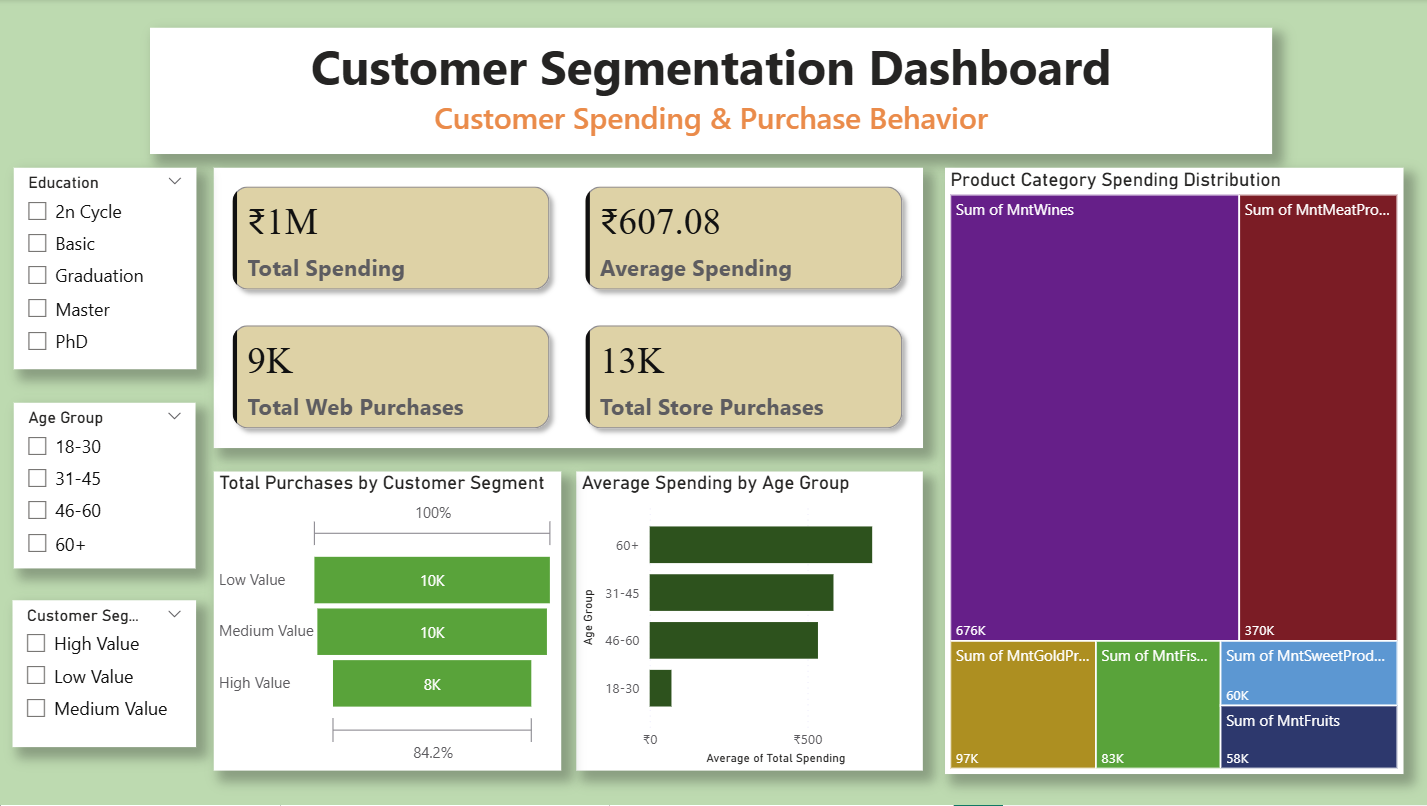

What the dashboard file says about the page in this screenshot:
{"tool":"powerbi","page":{"name":"Customer Spending & Purchase Behavior","canvas":[1280,720],"ordinal":1},"visuals":[{"type":"textbox","box":[138.4,25.6,1002.3,112.8],"z":0},{"type":"cardVisual","fields":{"Data":["Sum(marketing_campaign.Total Spending)","Avg(marketing_campaign.Total Spending)","Sum(marketing_campaign.NumWebPurchases)","Sum(marketing_campaign.NumStorePurchases)"]},"box":[195.3,151.2,633.7,250],"z":1000},{"type":"slicer","fields":{"Values":["marketing_campaign.Education"]},"box":[16.7,150.7,163,179.8],"z":2000},{"type":"slicer","fields":{"Values":["marketing_campaign.Customer Segment"]},"box":[15.1,537.2,164,131.4],"z":3000},{"type":"slicer","fields":{"Values":["marketing_campaign.Age Group"]},"box":[16.3,360.5,162.8,147.7],"z":4000},{"type":"treemap","title":"Product Category Spending Distribution","fields":{"Values":["Sum(marketing_campaign.MntFishProducts)","Sum(marketing_campaign.MntFruits)","Sum(marketing_campaign.MntGoldProds)","Sum(marketing_campaign.MntMeatProducts)","Sum(marketing_campaign.MntSweetProducts)","Sum(marketing_campaign.MntWines)"]},"box":[848.8,151.2,409.3,541.9],"z":5000},{"type":"clusteredBarChart","title":"Average Spending by Age Group","fields":{"Category":["marketing_campaign.Age Group"],"Y":["Avg(marketing_campaign.Total Spending)"]},"box":[519.8,422.1,309.3,267.4],"z":6000},{"type":"funnel","title":"Total Purchases by Customer Segment","fields":{"Category":["marketing_campaign.Customer Segment"],"Y":["Sum(marketing_campaign.Total Purchases)"]},"box":[195.3,422.1,310.5,267.4],"z":7000}]}

Visuals, with their boxes in screenshot pixels (x1, y1, x2, y2), scaled from the page's 1280x720 canvas onto the 1427x806 screenshot:
textbox: [x1=154, y1=29, x2=1272, y2=155]
cardVisual - Sum(marketing_campaign.Total Spending) x Avg(marketing_campaign.Total Spending): [x1=218, y1=169, x2=924, y2=449]
slicer - marketing_campaign.Education: [x1=19, y1=169, x2=200, y2=370]
slicer - marketing_campaign.Customer Segment: [x1=17, y1=601, x2=200, y2=748]
slicer - marketing_campaign.Age Group: [x1=18, y1=404, x2=200, y2=569]
"Product Category Spending Distribution" treemap: [x1=946, y1=169, x2=1403, y2=776]
"Average Spending by Age Group" clusteredBarChart: [x1=579, y1=473, x2=924, y2=772]
"Total Purchases by Customer Segment" funnel: [x1=218, y1=473, x2=564, y2=772]
